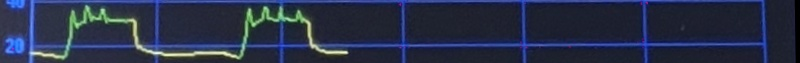hydrop_pressure: (24, 0, 362, 63)
